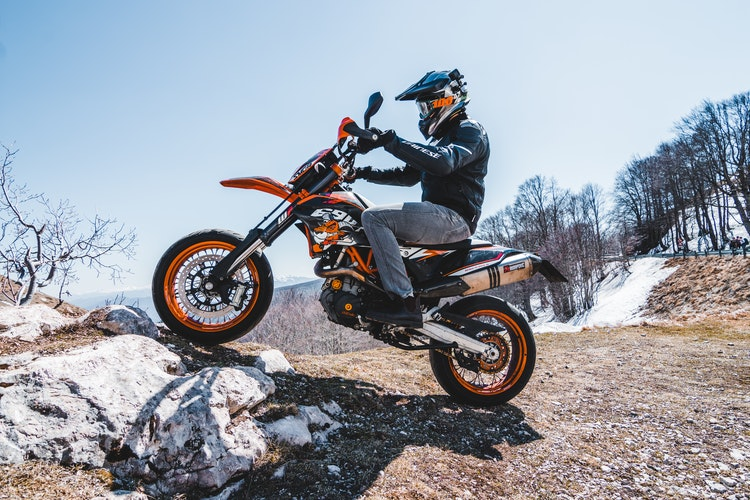helmet: (407, 68, 472, 139)
